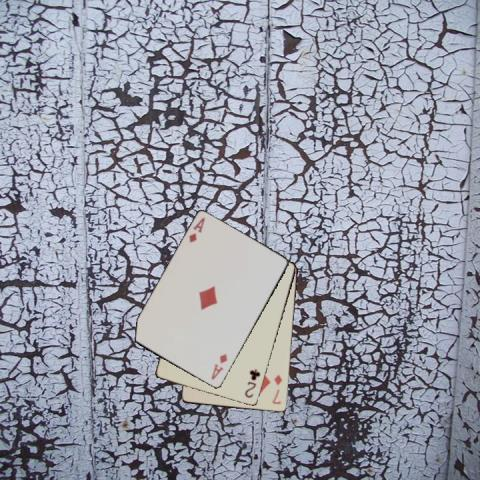2c: (242, 367, 262, 399)
7d: (270, 372, 284, 406)
Ad: (208, 351, 229, 381), (186, 214, 206, 244)
